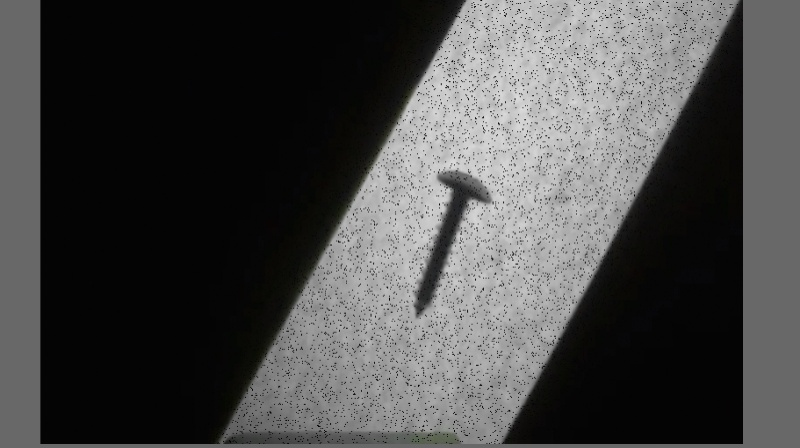S003: (411, 167, 494, 318)
